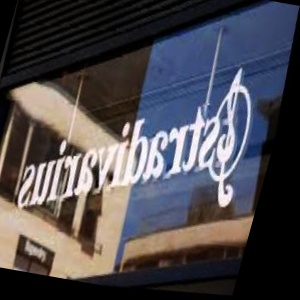stradivarius: (0, 151, 260, 243)
